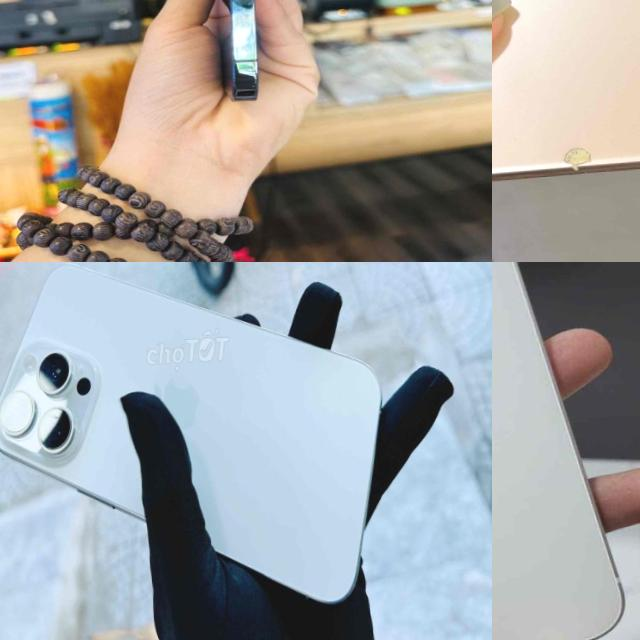gen_11: (492, 0, 640, 188)
gen_12_13: (492, 262, 635, 640), (203, 0, 276, 106)
gen_15: (0, 262, 397, 635)
